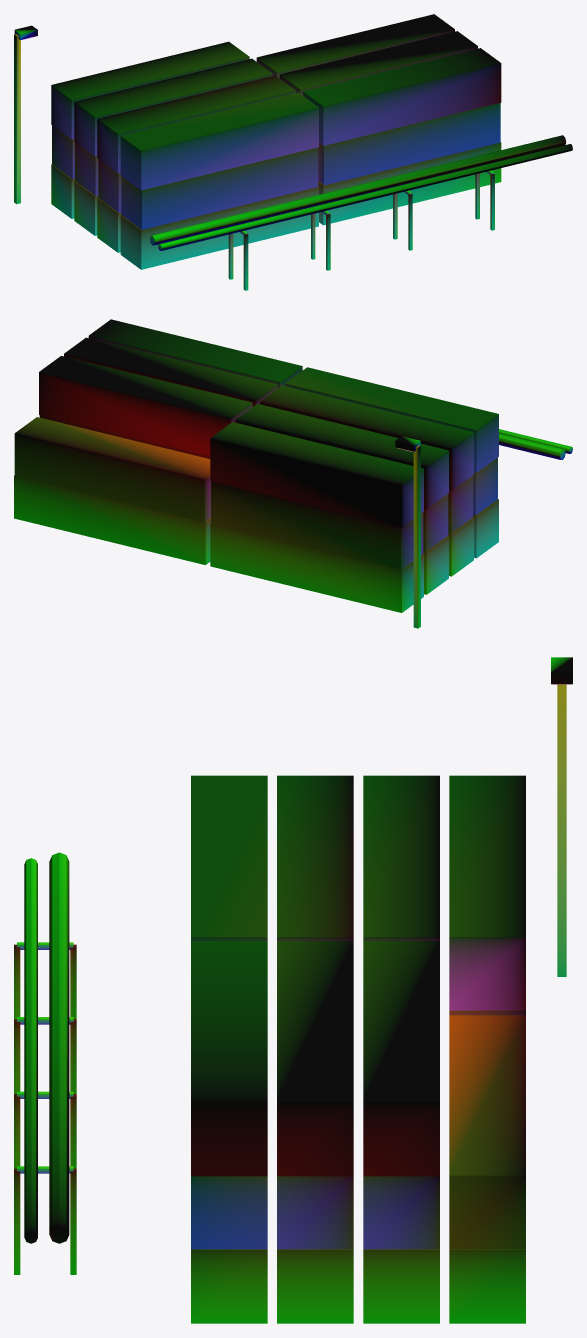
The model's file is Ind_Yard.fbx.
The picture shows the model from 3 angles, top to bottom: view 1: azimuth 30°, elevation 25°; view 2: azimuth 150°, elevation 25°; view 3: azimuth 270°, elevation 25°; orthographic projection. The views are drawn at different scales.
Parts seen in each view (by area): view 1: Ind_Yard_LOD0; view 2: Ind_Yard_LOD0; view 3: Ind_Yard_LOD0.
Boxes of the visible parts, box(x1,y1,x2,y2) form: Ind_Yard_LOD0: box(14, 14, 572, 290); Ind_Yard_LOD0: box(14, 319, 572, 628); Ind_Yard_LOD0: box(14, 657, 572, 1323).
Size of what is drawn, in the model's own units: 28.35 by 11.2 by 17.85.
